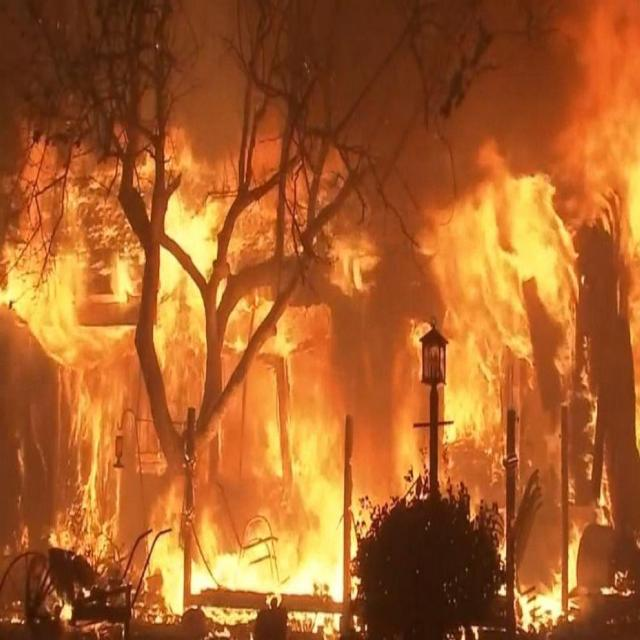Fire: (9, 93, 640, 611)
